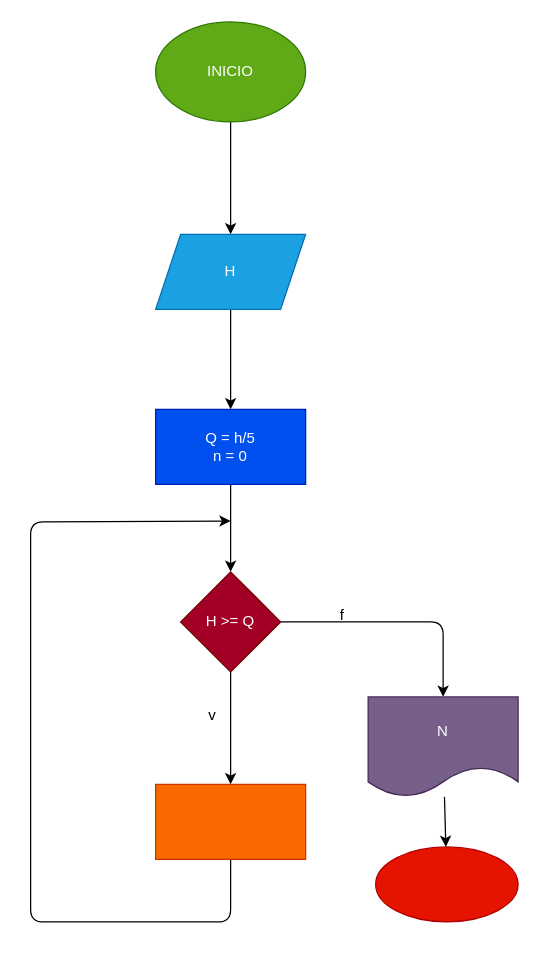
This 540x954 diagram has some shape labels left out. Each missing label, with the centre of its shape:
"FIN" goes at (446,884).
"H = H - 0.1*H n = n+1" goes at (230,821).
